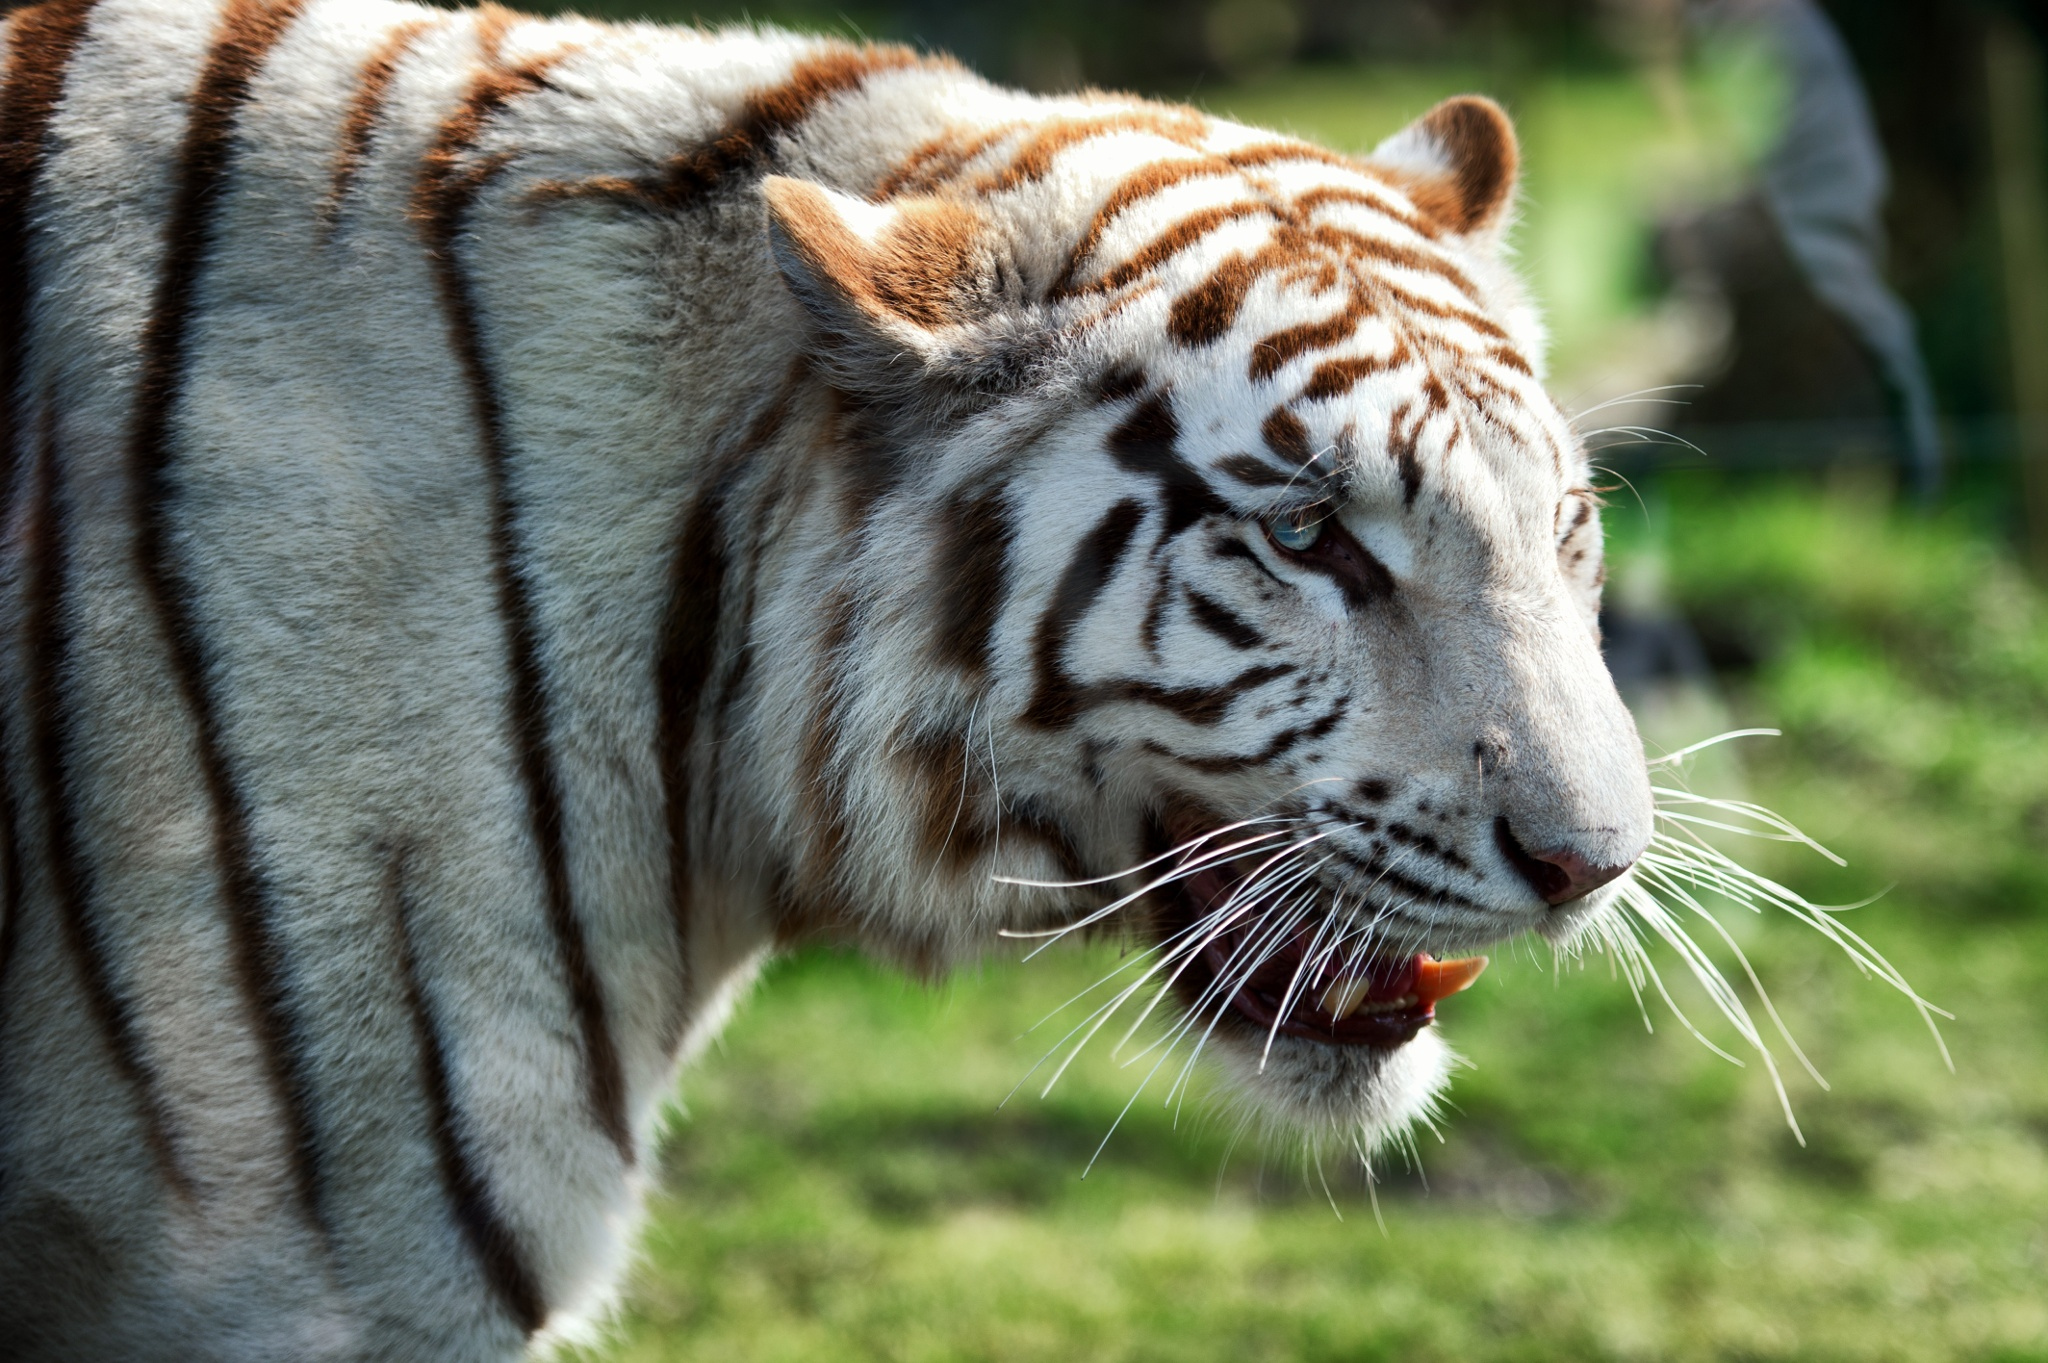tiger: (68, 30, 1704, 1279)
